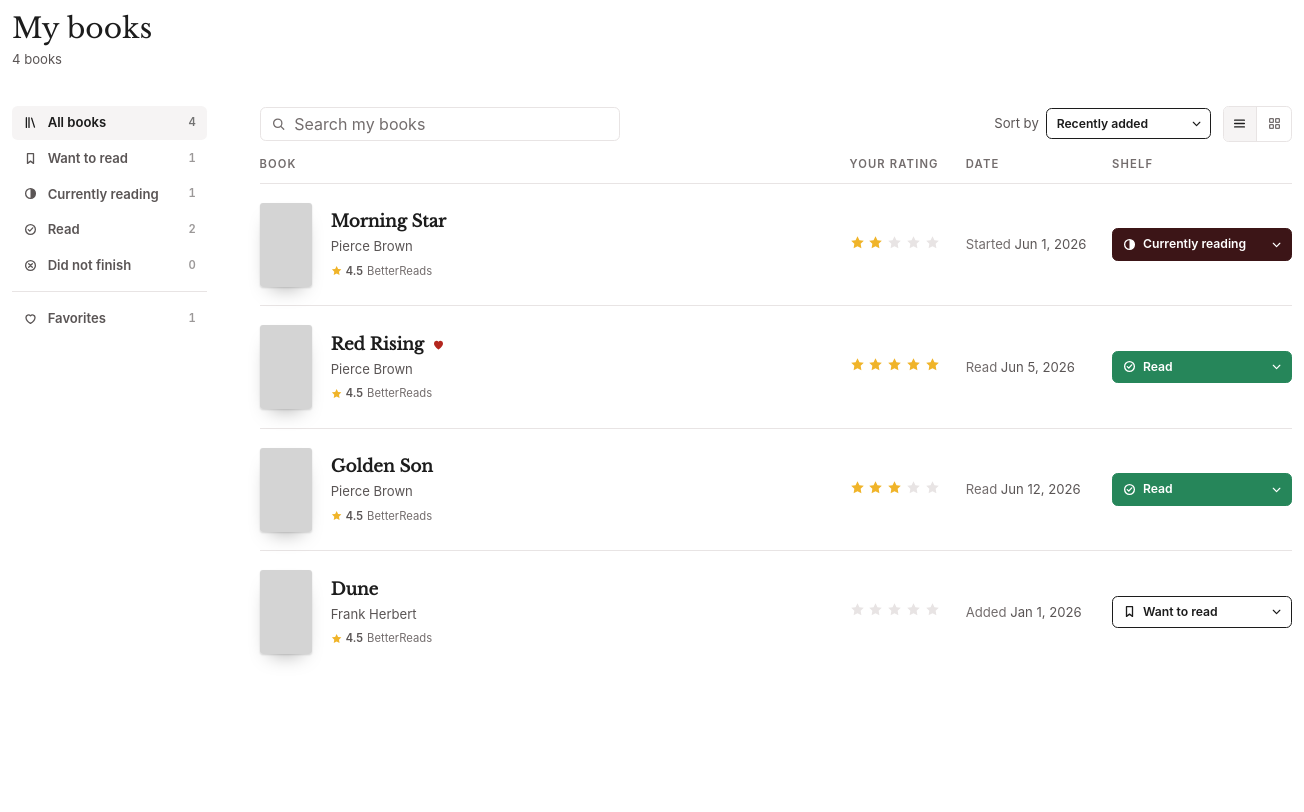
it: ShelfList › should filter by shelf in the rail without a new request
Check: the link "Dune" is shown, box [331,579,378,600]
Click the button "Read 2" at (110, 230), box [12,213,207,246]
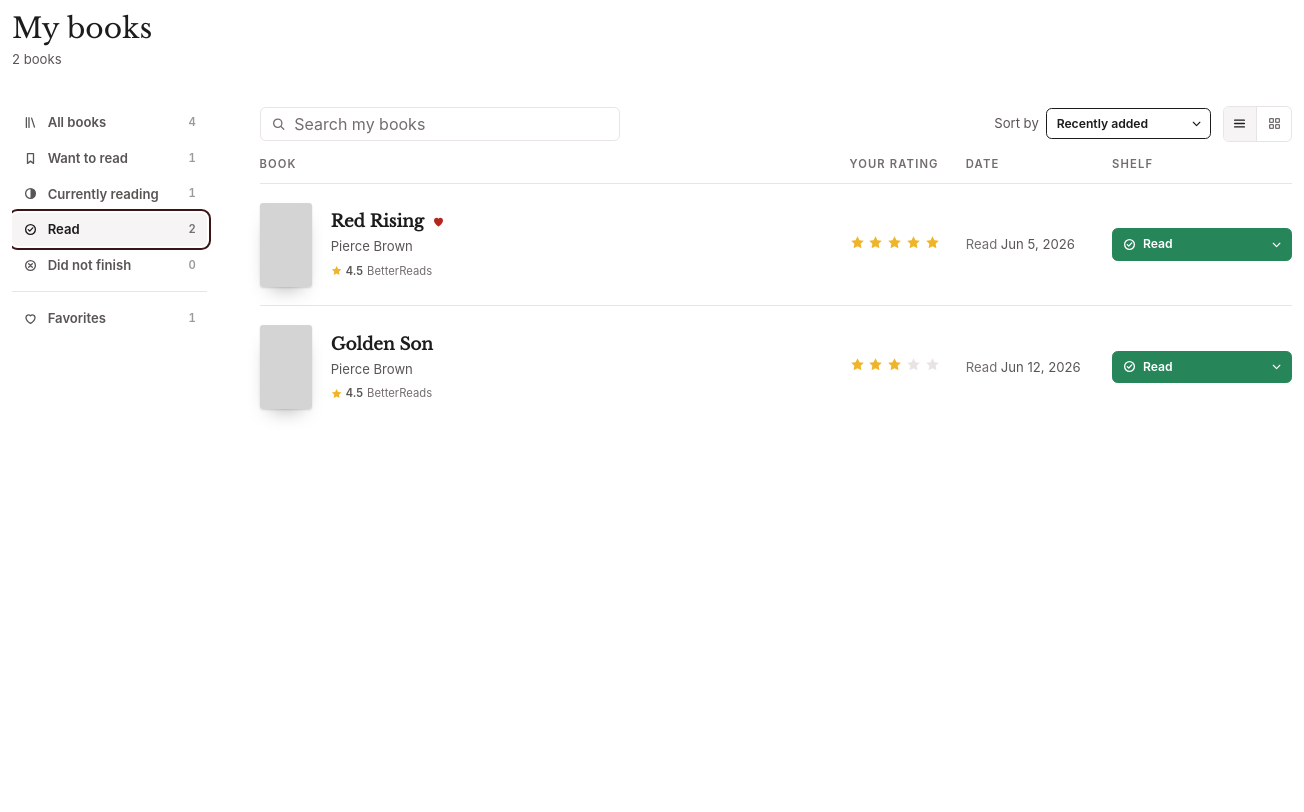
Check: the text "2 books" is shown, box [12,50,62,66]
